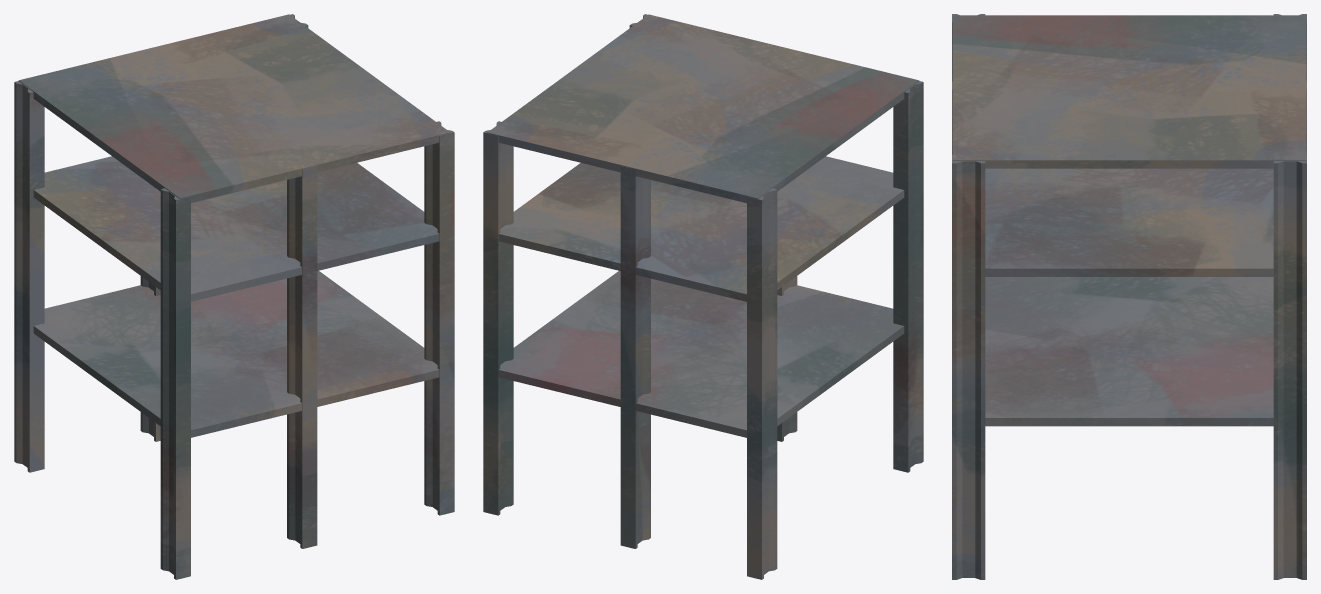
The model's file is CONS4.fbx.
3 renders of one model, left to right at view 1: azimuth 30°, elevation 25°; view 2: azimuth 150°, elevation 25°; view 3: azimuth 270°, elevation 25°, orthographic. The views are drawn at different scales.
Parts seen in each view (by area): view 1: Box035; view 2: Box035; view 3: Box035.
Part boxes in pixels (x1,y1,x2,y2): Box035: (14, 14, 454, 579); Box035: (483, 14, 923, 579); Box035: (952, 14, 1306, 579).
Size of the model in its own units: 943 by 1231 by 949.
